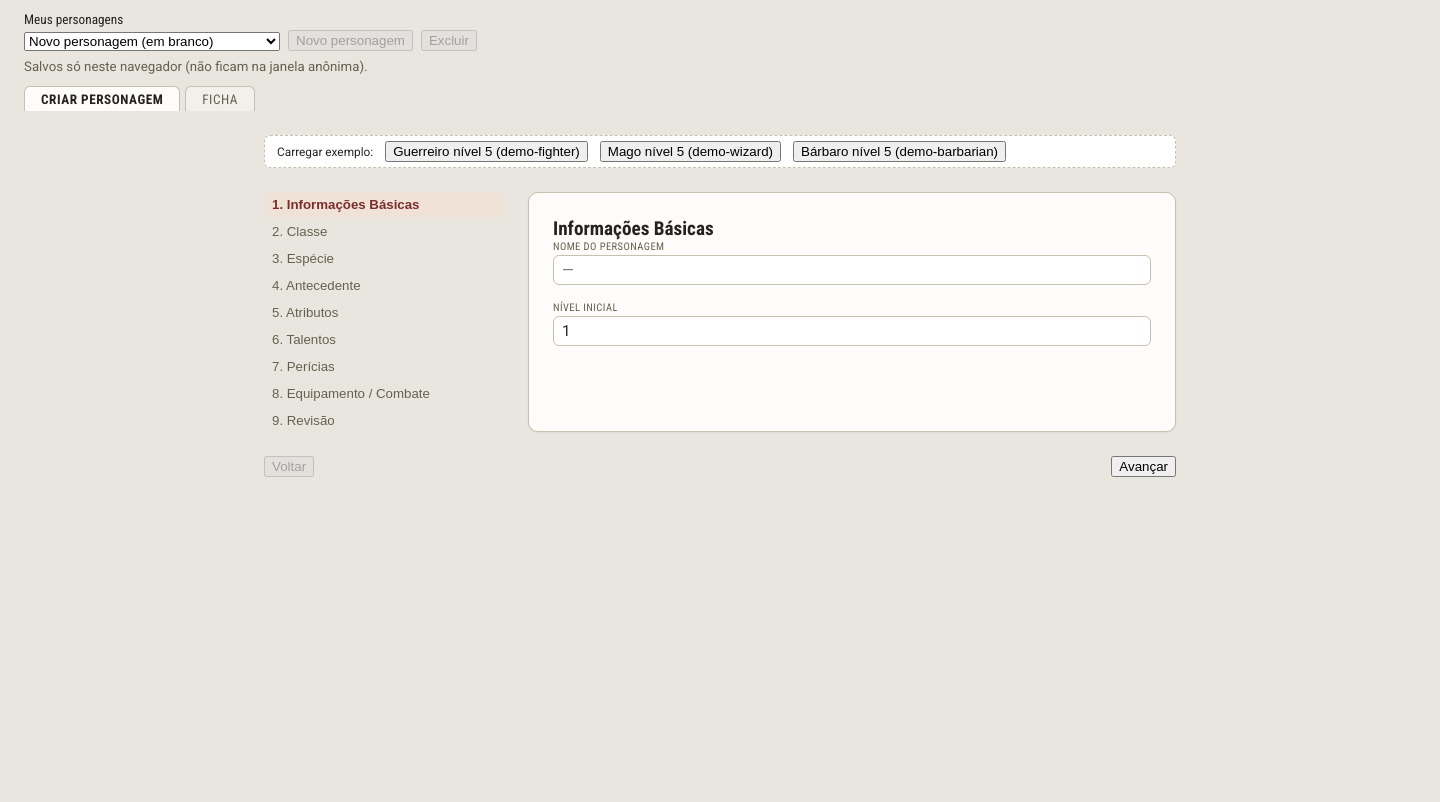
Scenario: App — aba Ficha (conteúdo que já existia antes do Builder) › monta sem erros e mostra todos os blocos pedidos
Click the button "Ficha".
click(220, 99)  # box [185,86,255,111]
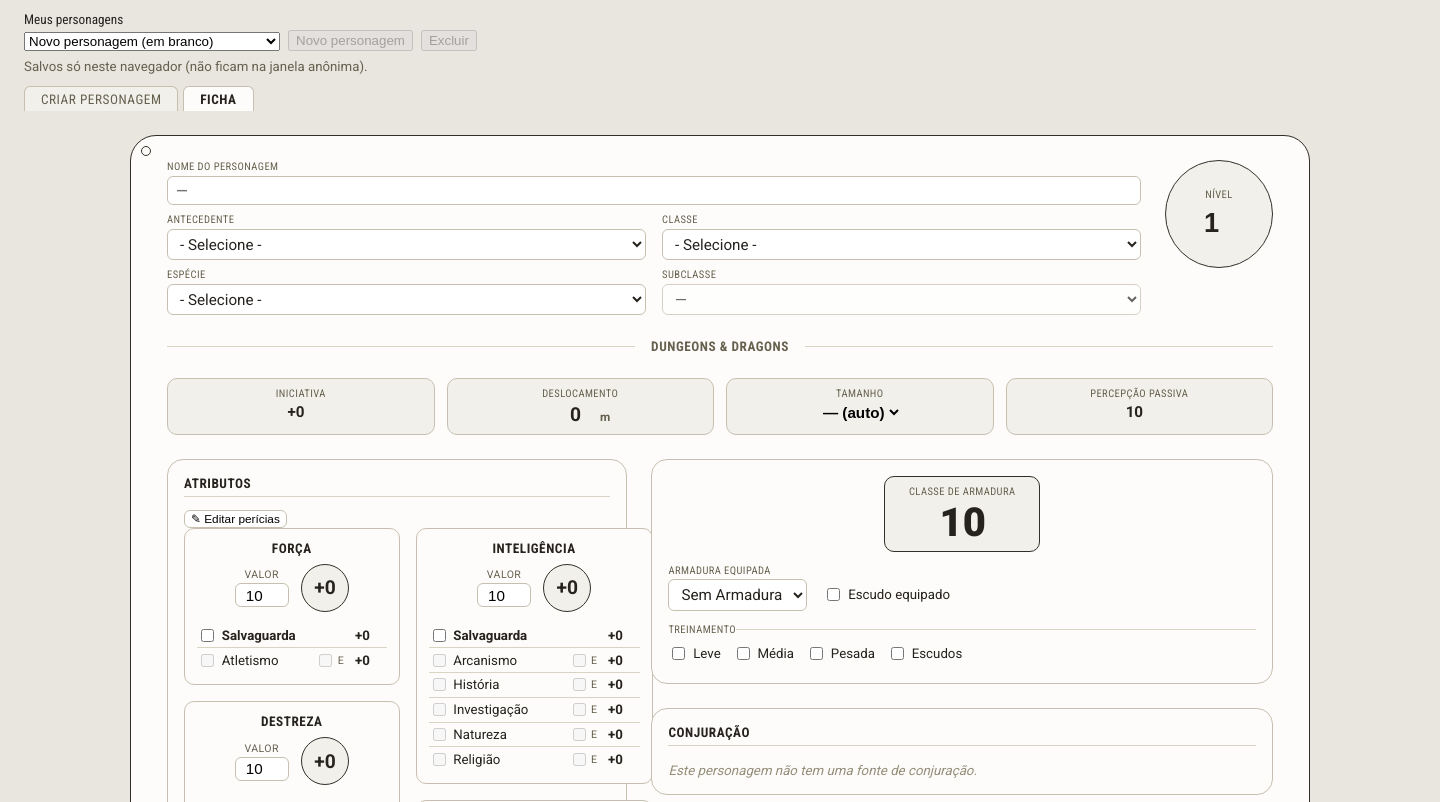
Check: the dropdown labelled "Classe" is shown, box [662,229,1141,260]
Check: the dropdown labelled "Subclasse" is shown, box [662,284,1141,315]
Check: the dropdown labelled "Espécie" is shown, box [167,284,646,315]
